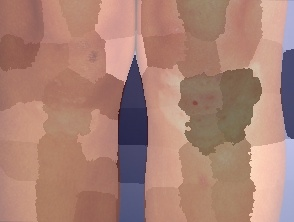vitiligo: (152, 45, 281, 206)
